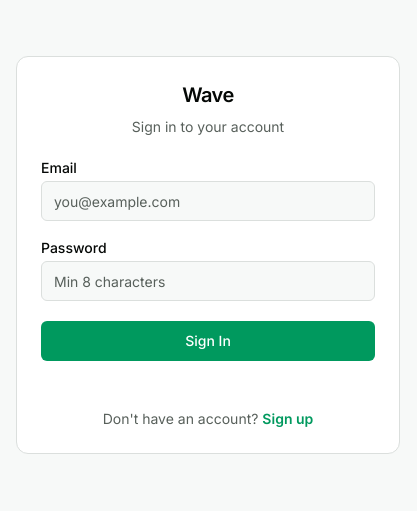
Scenario: AuthPage › clears error on mode toggle
In the field labelled "Email": point(208, 201) x1=41 y1=181 x2=375 y2=221, type "test@example.com"
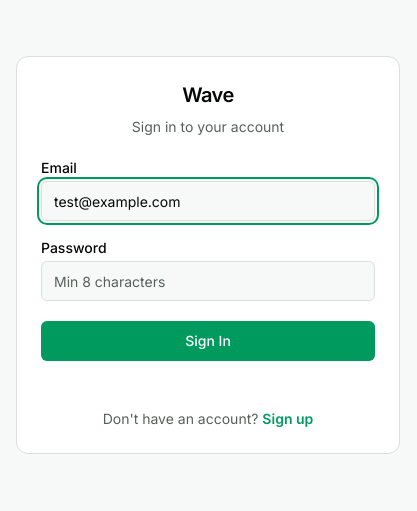
In the password field labelled "Password": point(208, 281) x1=41 y1=261 x2=375 y2=301, type "wrong"
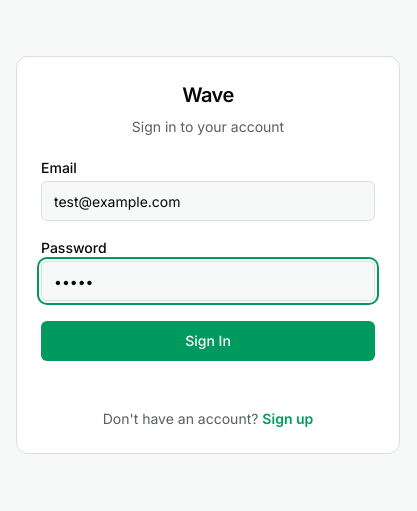
Click the button "Sign In": point(208, 341) x1=41 y1=321 x2=375 y2=361
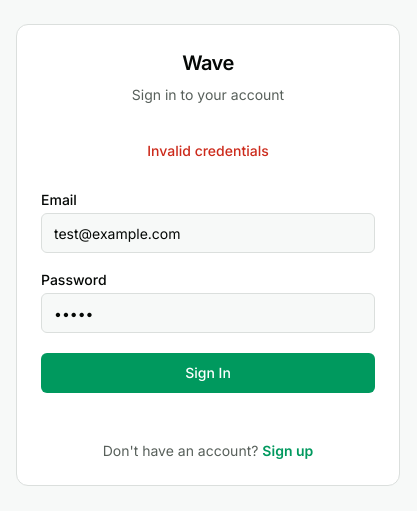
Expected: the text "Invalid credentials" is shown, x1=147 y1=142 x2=269 y2=159
Click the button "Sign up": point(288, 451) x1=262 y1=441 x2=313 y2=461
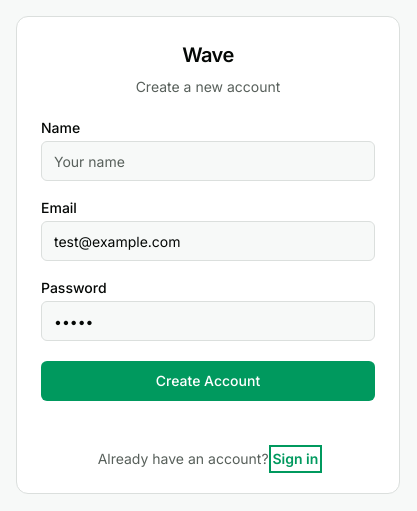
Expected: the text "Invalid credentials" is gone
